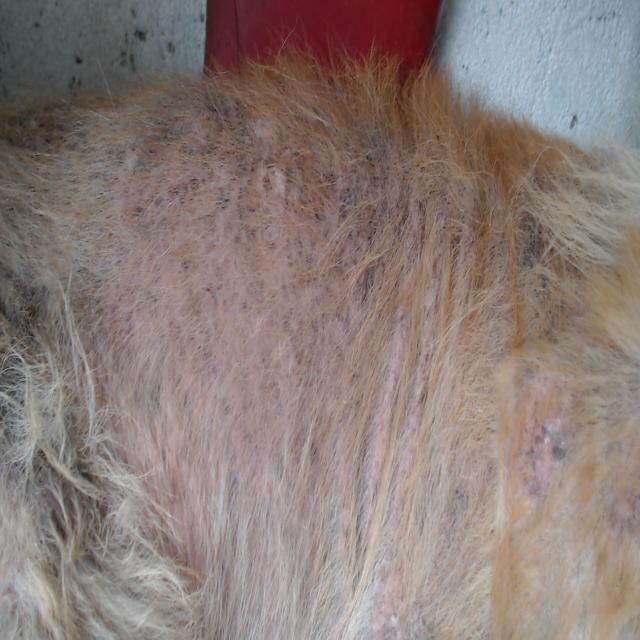demodicosis: (112, 119, 464, 508)
